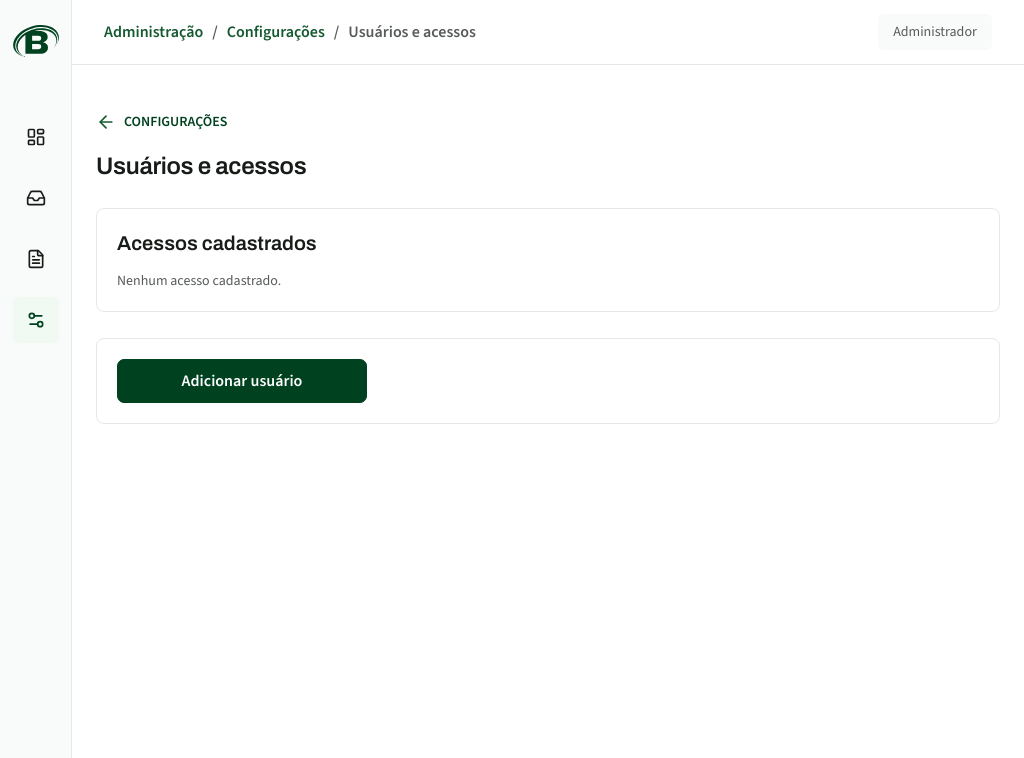
Test case: ADM-12 — fidelidade visual de Field e Select › utiliza ChevronDown oficial e preserva o select acessível
The image size is (1024, 758).
Click the button "Adicionar usuário" at (242, 381), box [117,359,367,403]
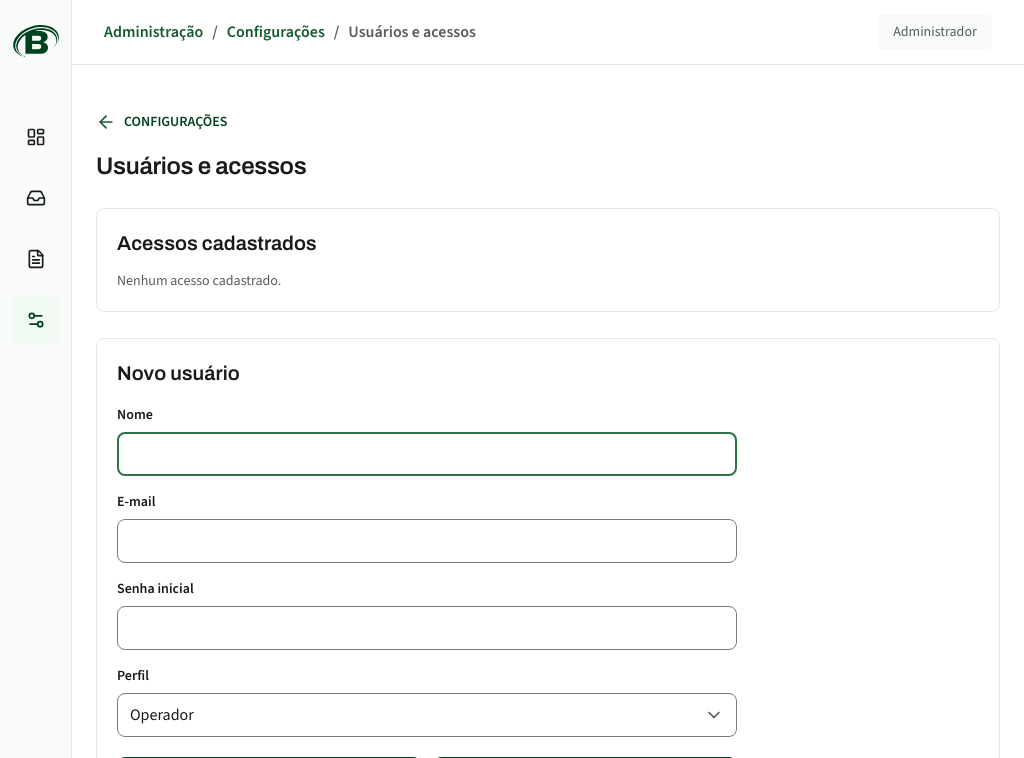
Expected: the element named "Perfil" is shown, [117,693,737,737]
Expected: the icon with class "lucide-chevron-down" is shown, [704,705,724,725]
